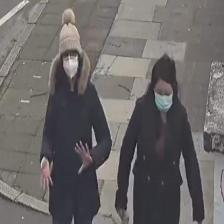person: (39, 8, 112, 222), (115, 52, 203, 224)
